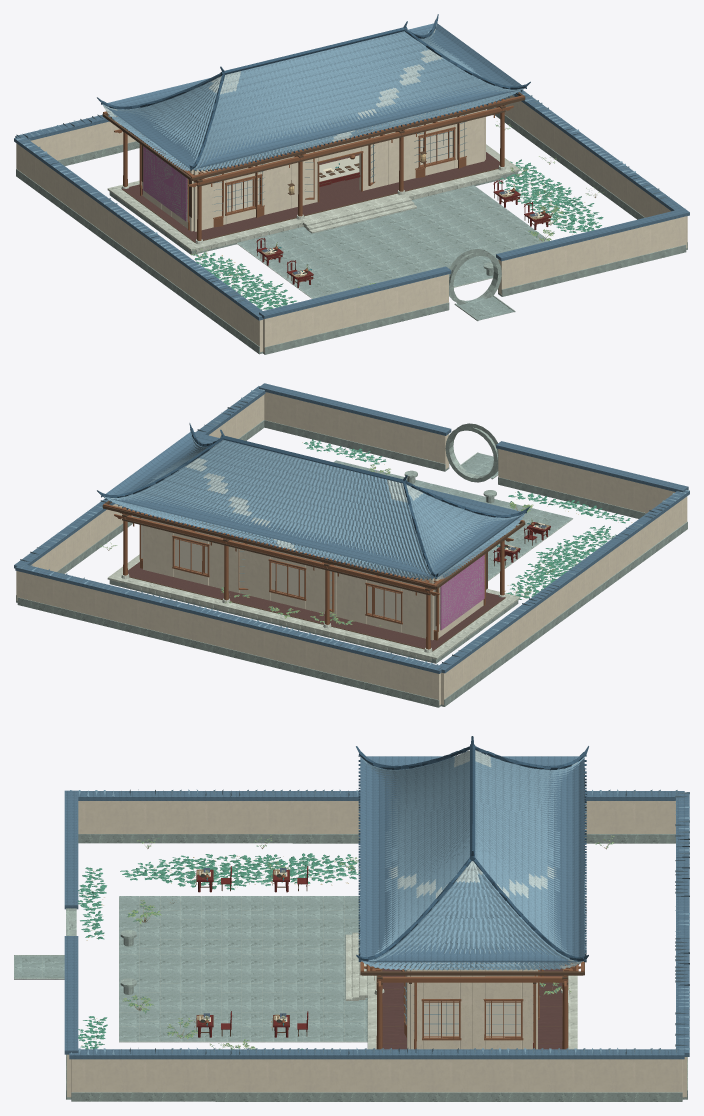
File: reference-public_models_places-low_qiushuangzhai.glb
3 renders of one model, top to bottom at view 1: azimuth 30°, elevation 25°; view 2: azimuth 150°, elevation 25°; view 3: azimuth 270°, elevation 25°, orthographic. The views are drawn at different scales.
Visible parts, largest first — view 1: r15_qiushuangzhai_Sunwen_r18_study_tile.001, r15_qiushuangzhai_Sunwen_r18_study_plaster.001, r15_qiushuangzhai_Sunwen_r18_study_roof.001, Mobile_qiushuangzhai_paving, r15_qiushuangzhai_Sunwen_r18_study_plaster.003, r15_qiushuangzhai_Sunwen_r18_study_stone.001, r15_qiushuangzhai_Sunwen_r18_study_wood.001, r15_qiushuangzhai_Sunwen_r18_study_cutstone.001, Mobile_qiushuangzhai_floorwood, Mobile_qiushuangzhai_botanical_bamboo, r15_qiushuangzhai_Sunwen_r18_study_darkwood.001, r15_qiushuangzhai_Sunwen_r18_study_tiledark.001 (+10 smaller); view 2: r15_qiushuangzhai_Sunwen_r18_study_plaster.001, r15_qiushuangzhai_Sunwen_r18_study_tile.001, r15_qiushuangzhai_Sunwen_r18_study_roof.001, r15_qiushuangzhai_Sunwen_r18_study_stone.001, r15_qiushuangzhai_Sunwen_r18_study_plaster.003, r15_qiushuangzhai_Sunwen_r18_study_wood.001, r15_qiushuangzhai_Sunwen_r18_study_cutstone.001, Mobile_qiushuangzhai_floorwood, Mobile_qiushuangzhai_botanical_bamboo, r15_qiushuangzhai_Sunwen_r18_study_darkwood.001, Mobile_qiushuangzhai_paving, r15_qiushuangzhai_Sunwen_r18_study_tiledark.001 (+6 smaller); view 3: Mobile_qiushuangzhai_paving, r15_qiushuangzhai_Sunwen_r18_study_roof.001, r15_qiushuangzhai_Sunwen_r18_study_tile.001, r15_qiushuangzhai_Sunwen_r18_study_plaster.001, r15_qiushuangzhai_Sunwen_r18_study_stone.001, r15_qiushuangzhai_Sunwen_r18_study_plaster.003, Mobile_qiushuangzhai_botanical_bamboo, r15_qiushuangzhai_Sunwen_r18_study_wood.001, r15_qiushuangzhai_Sunwen_r18_study_tiledark.001, Mobile_qiushuangzhai_floorwood, r15_qiushuangzhai_Sunwen_r18_study_cutstone.001, Mobile_qiushuangzhai_courtbase (+6 smaller).
Boxes of the visible parts, x1,y1,x2,y2 form: r15_qiushuangzhai_Sunwen_r18_study_tile.001: (16, 28, 681, 316); r15_qiushuangzhai_Sunwen_r18_study_plaster.001: (16, 95, 687, 352); r15_qiushuangzhai_Sunwen_r18_study_roof.001: (14, 23, 689, 320); Mobile_qiushuangzhai_paving: (237, 185, 548, 320); r15_qiushuangzhai_Sunwen_r18_study_plaster.003: (142, 104, 485, 231); r15_qiushuangzhai_Sunwen_r18_study_stone.001: (16, 107, 687, 354); r15_qiushuangzhai_Sunwen_r18_study_wood.001: (103, 95, 545, 271); r15_qiushuangzhai_Sunwen_r18_study_cutstone.001: (107, 144, 520, 252); Mobile_qiushuangzhai_floorwood: (122, 152, 499, 241); Mobile_qiushuangzhai_botanical_bamboo: (193, 159, 603, 310); r15_qiushuangzhai_Sunwen_r18_study_darkwood.001: (102, 92, 549, 283); r15_qiushuangzhai_Sunwen_r18_study_tiledark.001: (97, 14, 530, 171); r15_qiushuangzhai_Sunwen_r18_study_plaster.001: (16, 392, 687, 705); r15_qiushuangzhai_Sunwen_r18_study_tile.001: (20, 386, 689, 670); r15_qiushuangzhai_Sunwen_r18_study_roof.001: (14, 383, 689, 673); r15_qiushuangzhai_Sunwen_r18_study_stone.001: (16, 420, 687, 707); r15_qiushuangzhai_Sunwen_r18_study_plaster.003: (143, 514, 483, 640); r15_qiushuangzhai_Sunwen_r18_study_wood.001: (103, 503, 533, 649); r15_qiushuangzhai_Sunwen_r18_study_cutstone.001: (107, 554, 520, 660); Mobile_qiushuangzhai_floorwood: (128, 562, 505, 650); Mobile_qiushuangzhai_botanical_bamboo: (304, 439, 630, 599); r15_qiushuangzhai_Sunwen_r18_study_darkwood.001: (102, 500, 550, 651); Mobile_qiushuangzhai_paving: (334, 453, 572, 579); r15_qiushuangzhai_Sunwen_r18_study_tiledark.001: (97, 423, 530, 579); Mobile_qiushuangzhai_paving: (14, 896, 367, 1041); r15_qiushuangzhai_Sunwen_r18_study_roof.001: (64, 756, 689, 1059); r15_qiushuangzhai_Sunwen_r18_study_tile.001: (70, 753, 689, 1054); r15_qiushuangzhai_Sunwen_r18_study_plaster.001: (66, 801, 687, 1097); r15_qiushuangzhai_Sunwen_r18_study_stone.001: (14, 834, 687, 1101); r15_qiushuangzhai_Sunwen_r18_study_plaster.003: (407, 962, 537, 1049); Mobile_qiushuangzhai_botanical_bamboo: (78, 853, 359, 1049); r15_qiushuangzhai_Sunwen_r18_study_wood.001: (205, 873, 584, 1049); r15_qiushuangzhai_Sunwen_r18_study_tiledark.001: (356, 736, 588, 962); Mobile_qiushuangzhai_floorwood: (382, 964, 562, 1049); r15_qiushuangzhai_Sunwen_r18_study_cutstone.001: (345, 932, 577, 1049); Mobile_qiushuangzhai_courtbase: (119, 897, 367, 1041).
Bounding box in the file's own units: 32.76 × 10.51 × 35.38.
31 materials, 25 textured.
